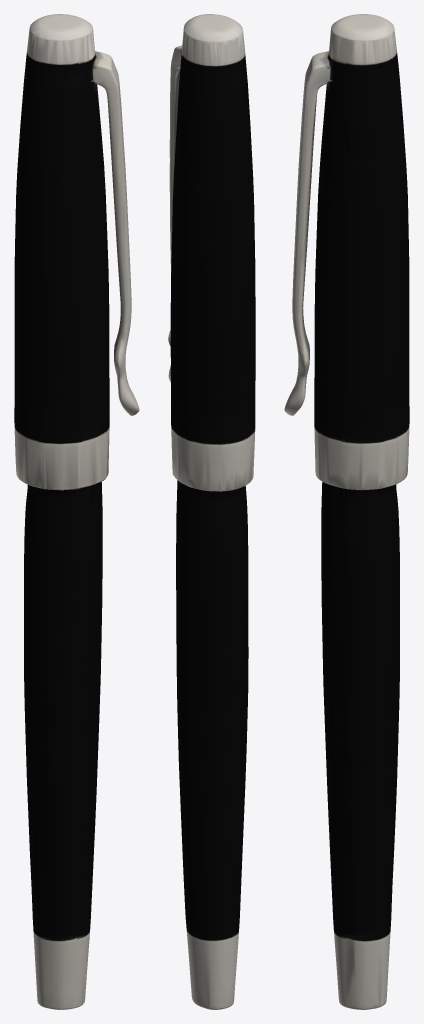
The model's file is markdown.glb.
The picture shows the model from 3 angles, left to right: view 1: azimuth 90°, elevation 25°; view 2: azimuth 210°, elevation 25°; view 3: azimuth 270°, elevation 25°; orthographic projection.
Parts seen in each view (by area): view 1: node_0; view 2: node_0; view 3: node_0.
Boxes of the visible parts, left/top/right/bottom form: node_0: left=14, top=14, right=139, bottom=1009; node_0: left=168, top=14, right=255, bottom=1009; node_0: left=284, top=14, right=409, bottom=1009.
Bounding box in the file's own units: 0.0917 × 1.2 × 0.1385.
Materials: 1 (1 with a texture image).
